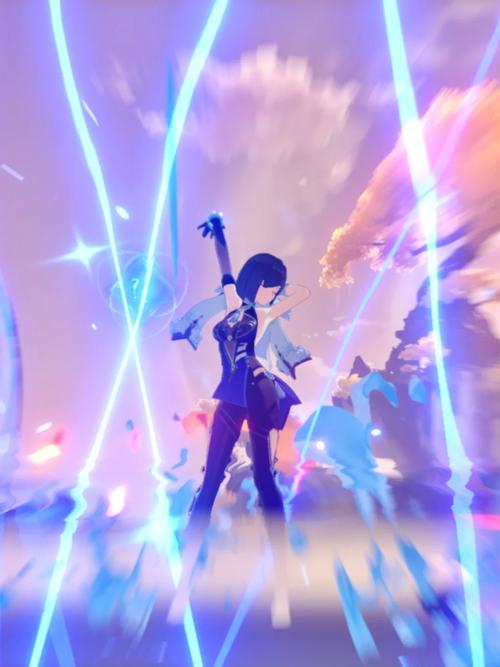夜兰: (175, 208, 312, 588)
